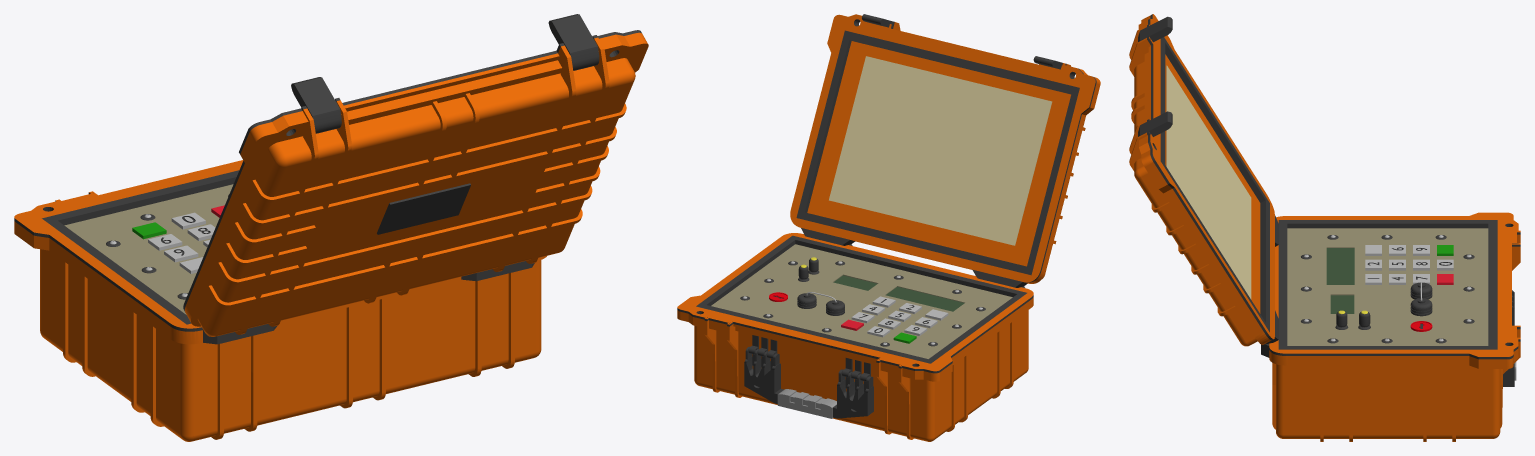
File: Detonador Electrico_Final.fbx
The picture shows the model from 3 angles, left to right: view 1: azimuth 30°, elevation 25°; view 2: azimuth 150°, elevation 25°; view 3: azimuth 270°, elevation 25°; orthographic projection. The views are drawn at different scales.
Visible parts, largest first — view 1: Cylinder.007, Cube.029, Cube, Cube.011, Cube.009; view 2: Cylinder.007, Cube.029, Cube, Cylinder.003, Plane.001, Cylinder, Cube.009, Cube.011, Cube.008, Cube.006, Cylinder.005; view 3: Cube.029, Cylinder.007, Cube, Plane.001, Cylinder, Cube.006, Cube.008, Cube.011, Cube.009, Cylinder.005, Plane, Cylinder.001.
Part boxes in pixels (<box>): Cylinder.007: <box>183,14,648,336</box>; Cube.029: <box>14,160,546,441</box>; Cube: <box>64,184,233,314</box>; Cube.011: <box>132,205,224,239</box>; Cube.009: <box>148,224,215,250</box>; Cylinder.007: <box>790,14,1100,287</box>; Cube.029: <box>677,233,1033,441</box>; Cube: <box>711,244,1012,358</box>; Cylinder.003: <box>744,347,873,418</box>; Plane.001: <box>886,286,964,311</box>; Cylinder: <box>769,292,844,315</box>; Cube.009: <box>851,312,927,335</box>; Cube.011: <box>841,319,916,343</box>; Cube.008: <box>862,304,937,328</box>; Cube.006: <box>872,296,948,320</box>; Cylinder.005: <box>740,261,985,346</box>; Cube.029: <box>1261,212,1520,441</box>; Cylinder.007: <box>1129,14,1278,346</box>; Cube: <box>1287,228,1488,345</box>; Plane.001: <box>1326,248,1354,284</box>; Cylinder: <box>1410,282,1432,331</box>; Cube.006: <box>1365,245,1381,284</box>; Cube.008: <box>1389,245,1405,284</box>; Cube.011: <box>1437,245,1453,284</box>; Cube.009: <box>1413,245,1429,284</box>; Cylinder.005: <box>1301,235,1474,343</box>; Plane: <box>1330,295,1354,313</box>; Cylinder.001: <box>1335,310,1370,329</box>.
Bounding box in the file's own units: 69.3 × 69.01 × 79.29.
